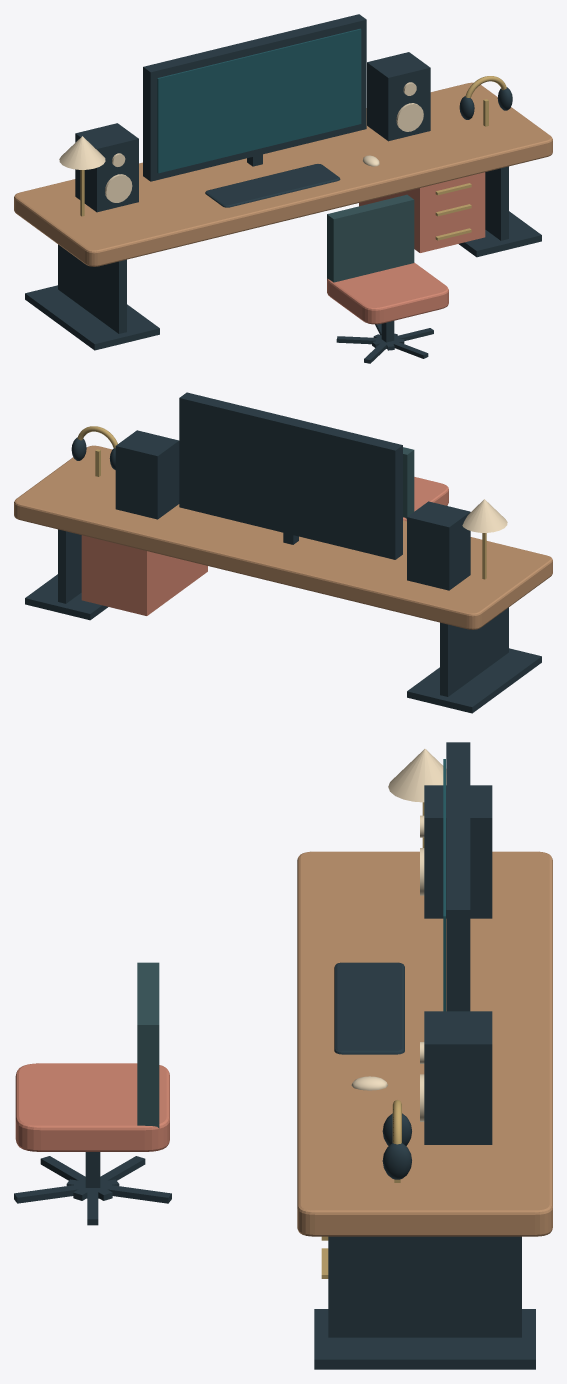
The model's file is echo-studio.glb.
The picture shows the model from 3 angles, top to bottom: view 1: azimuth 30°, elevation 25°; view 2: azimuth 150°, elevation 25°; view 3: azimuth 270°, elevation 25°; orthographic projection. The views are drawn at different scales.
Visible parts, largest first — view 1: RoundedDesk, ScreenSurface, StudioSpeaker (×2), UltrawideMonitor, Backrest, DeskFrame (×2), UpholsteredSeat, DeskFeet (×2), DrawerCabinet, Keyboard, SpeakerCone (×2), LampShade; view 2: RoundedDesk, UltrawideMonitor, StudioSpeaker (×2), DrawerCabinet, DeskFrame (×2), DeskFeet (×2), LampShade, UpholsteredSeat, Backrest; view 3: RoundedDesk, DeskFrame, StudioSpeaker (×2), UpholsteredSeat, DeskFeet, UltrawideMonitor, Keyboard, Backrest, LampShade, ChairFoot (×2), EarCup, ScreenSurface.
Boxes of the visible parts, left/top/right/bottom form: RoundedDesk: left=14, top=82, right=552, bottom=266; ScreenSurface: left=157, top=28, right=361, bottom=173; StudioSpeaker (×2): left=75, top=52, right=430, bottom=212; UltrawideMonitor: left=143, top=14, right=366, bottom=181; Backrest: left=327, top=194, right=414, bottom=282; DeskFrame (×2): left=58, top=166, right=508, bottom=333; UpholsteredSeat: left=327, top=262, right=448, bottom=324; DeskFeet (×2): left=25, top=211, right=541, bottom=350; DrawerCabinet: left=359, top=172, right=485, bottom=252; Keyboard: left=205, top=164, right=340, bottom=207; SpeakerCone (×2): left=105, top=103, right=423, bottom=202; LampShade: left=59, top=136, right=105, bottom=169; RoundedDesk: left=14, top=445, right=552, bottom=629; UltrawideMonitor: left=179, top=392, right=402, bottom=559; StudioSpeaker (×2): left=115, top=430, right=470, bottom=590; DrawerCabinet: left=81, top=535, right=207, bottom=615; DeskFrame (×2): left=58, top=529, right=508, bottom=696; DeskFeet (×2): left=25, top=574, right=541, bottom=713; LampShade: left=462, top=499, right=507, bottom=532; UpholsteredSeat: left=403, top=477, right=448, bottom=521; Backrest: left=403, top=447, right=414, bottom=518; RoundedDesk: left=297, top=851, right=552, bottom=1236; DeskFrame: left=328, top=1236, right=521, bottom=1337; StudioSpeaker (×2): left=424, top=785, right=492, bottom=1144; UpholsteredSeat: left=15, top=1063, right=169, bottom=1151; DeskFeet: left=314, top=1309, right=535, bottom=1369; UltrawideMonitor: left=446, top=742, right=470, bottom=1011; Keyboard: left=334, top=962, right=404, bottom=1054; Backrest: left=137, top=962, right=159, bottom=1128; LampShade: left=388, top=749, right=446, bottom=802; ChairFoot (×2): left=14, top=1179, right=171, bottom=1203; EarCup: left=382, top=1143, right=411, bottom=1179; ScreenSurface: left=443, top=759, right=445, bottom=1011.
Bounding box in the file's own units: 4.64 × 2.14 × 2.92.
